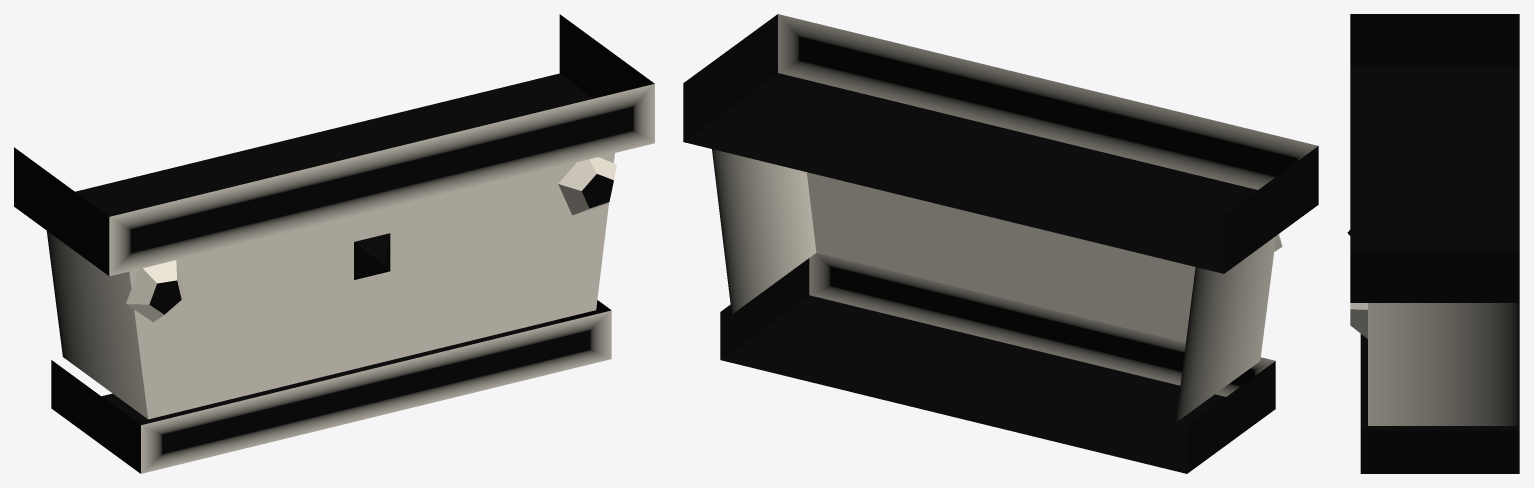
Rendered from capital_38.glb.
3 views of the same model, side by side, from view 1: azimuth 30°, elevation 25°; view 2: azimuth 150°, elevation 25°; view 3: azimuth 270°, elevation 25° (orthographic). The views are drawn at different scales.
Parts seen in each view (by area): view 1: capital_38; view 2: capital_38; view 3: capital_38.
Part boxes in pixels (<box>): capital_38: <box>14,14,654,473</box>; capital_38: <box>683,14,1318,473</box>; capital_38: <box>1347,14,1519,473</box>.
Bounding box in the file's own units: 0.38 × 0.18 × 0.117.
